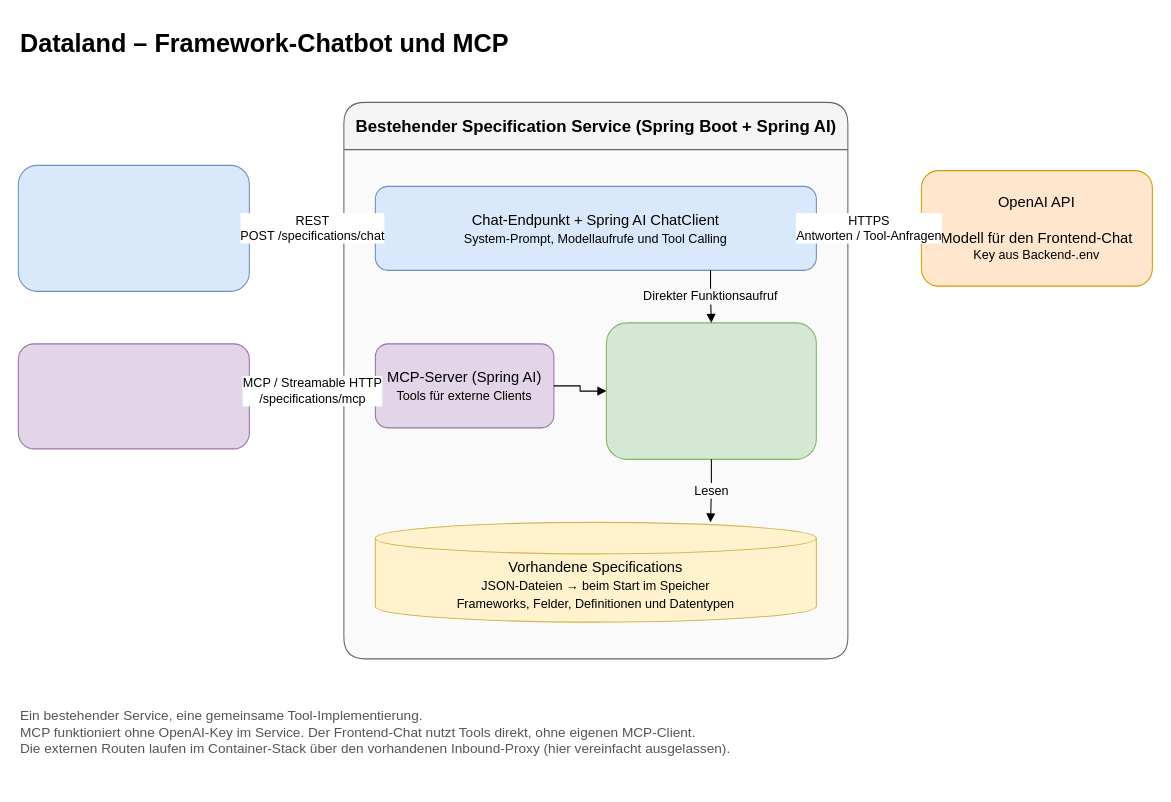
The diagram is 1171 pixels wide and 802 high, and some of its shapes have lost their labels. The centre of each missing label's shape, as x and y in pixels:
"Gemeinsame Framework-Tools list_frameworks search_fields get_field_definition" belongs at (x=710, y=390).
"OpenCode MCP-Client + eigenes Modell" belongs at (x=133, y=396).
"Vue-Frontend Framework help Chatfenster + TanStack-Mutation Verlauf im Browser" belongs at (x=133, y=227).
